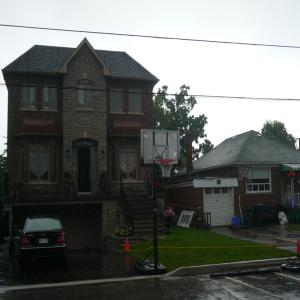Vehicle-registration-plate: (40, 239, 49, 244)
